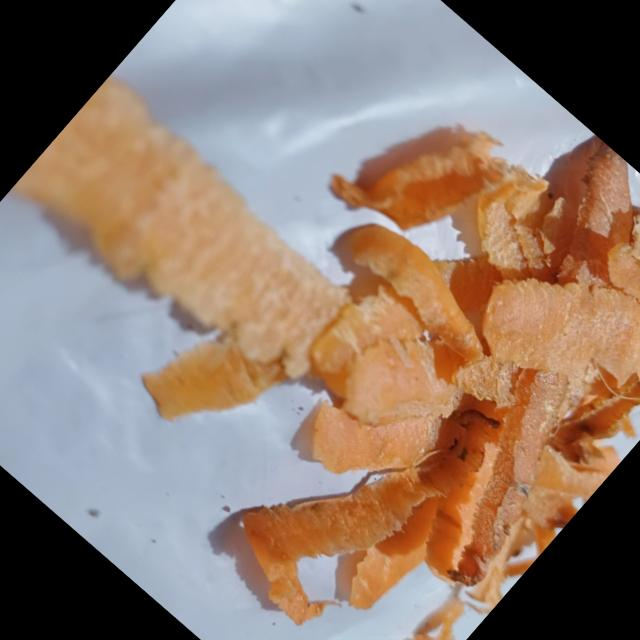organic: (84, 24, 640, 640)
